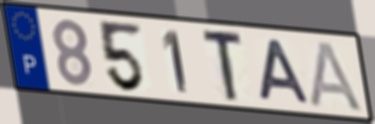1: (161, 29, 190, 94)
5: (94, 18, 147, 93)
8: (50, 16, 95, 88)
A: (308, 39, 366, 114), (257, 38, 313, 106)
T: (201, 30, 245, 104)
